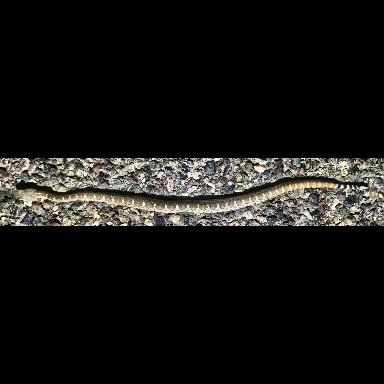snake: (21, 177, 384, 225)
